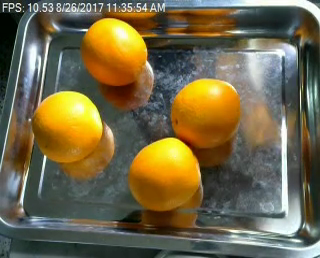Orange: (129, 137, 201, 210), (32, 90, 102, 162), (169, 77, 238, 147), (80, 17, 147, 85)
